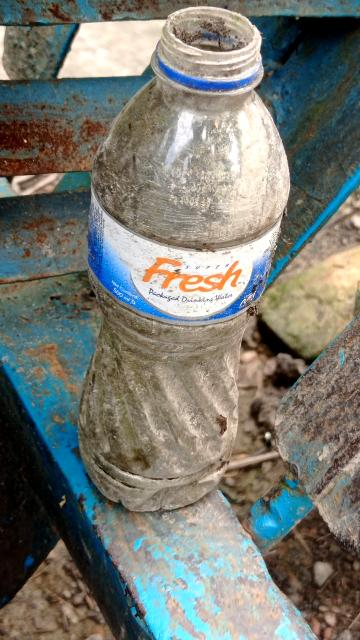bottle: (58, 19, 307, 508)
